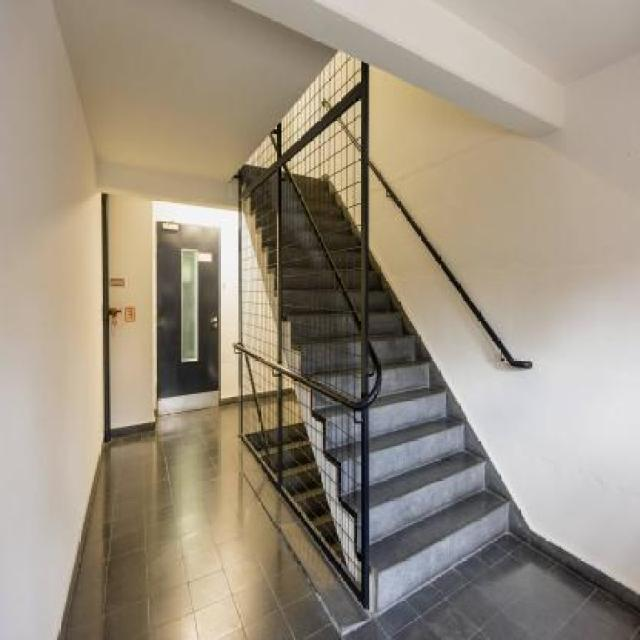stair: (226, 27, 520, 608)
